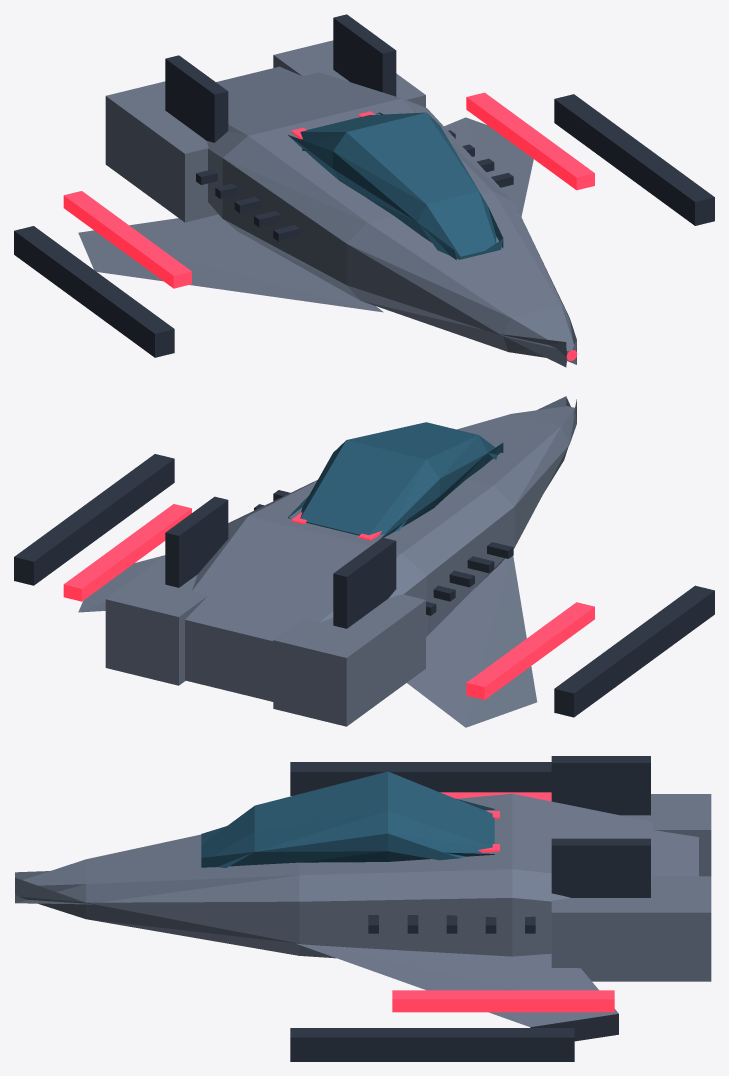
File: red_scout.glb
3 renders of one model, top to bottom at view 1: azimuth 30°, elevation 25°; view 2: azimuth 150°, elevation 25°; view 3: azimuth 270°, elevation 25°, orthographic.
Visible parts, largest first — view 1: Hull; view 2: Hull; view 3: Hull.
Part boxes in pixels (left/top/right/bottom): Hull: left=14, top=14, right=714, bottom=367; Hull: left=14, top=396, right=714, bottom=727; Hull: left=15, top=756, right=711, bottom=1061.
Size of the model in its own units: 3.67 by 0.92 by 3.95.
